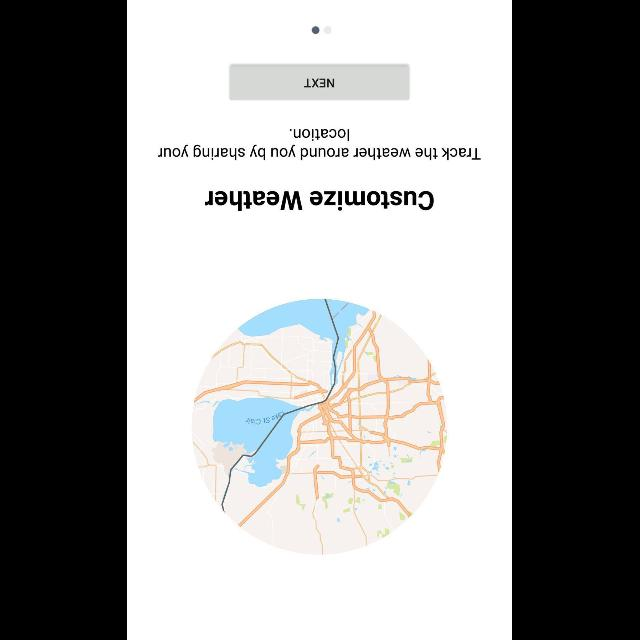image: (192, 299, 448, 555)
pageindicator: (312, 26, 332, 34)
text: (158, 128, 482, 160), (206, 191, 434, 211)
textbutton: (230, 64, 410, 100)
